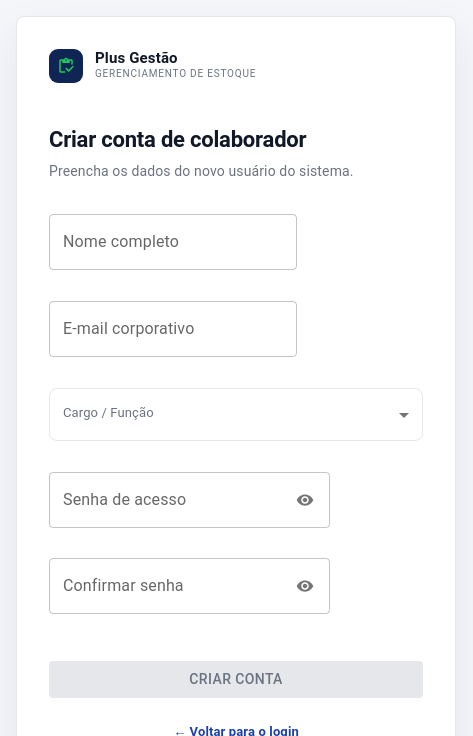
SignupPage — Criar Conta de Colaborador › exibe erro 'E-mail já cadastrado' quando API retorna 409
The image size is (473, 736).
In the field labelled "Nome completo": coordinates (173, 242) [49,214,297,270], type "Ana Gestora"
In the field labelled "E-mail corporativo": coordinates (173, 329) [49,301,297,357], type "duplicate@plus.com"
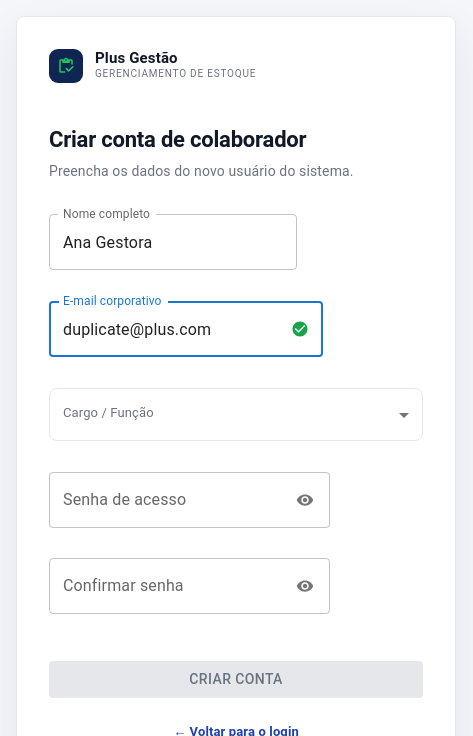
Click the dropdown: coordinates (236, 415) [49,388,423,441]
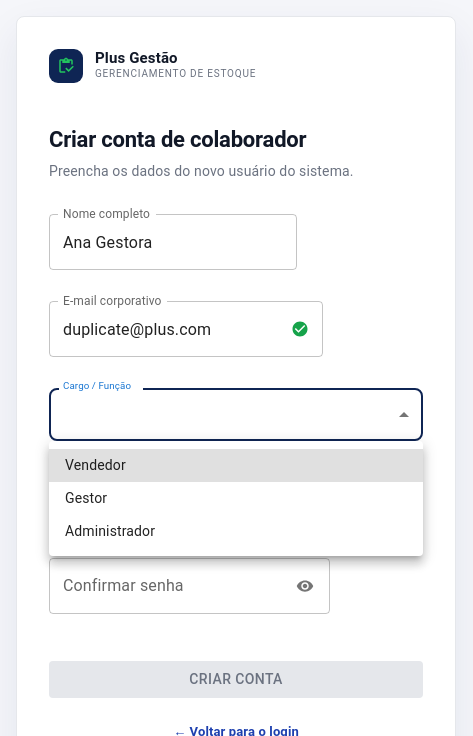
Click the option "Gestor": coordinates (86, 498) [65,490,107,506]
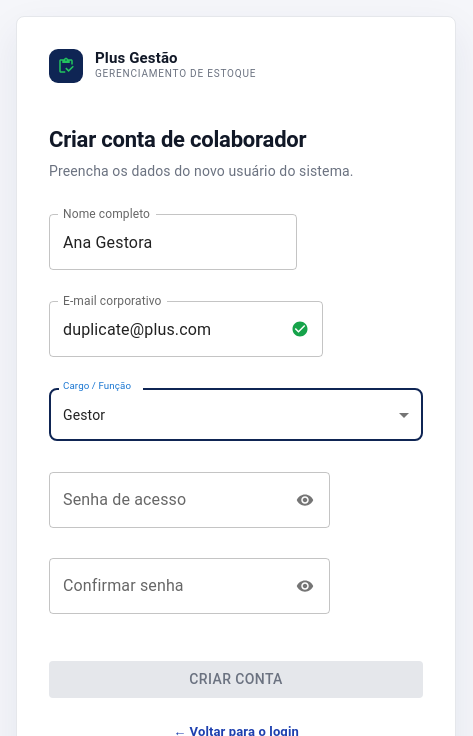
In the password field labelled "Senha de acesso": coordinates (166, 500) [49,472,283,528], type "Senh@Forte1"
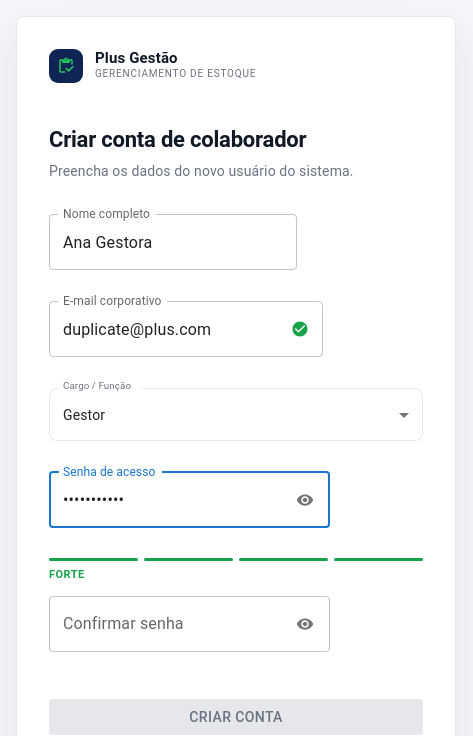
In the password field labelled "Confirmar senha": coordinates (166, 624) [49,596,283,652], type "Senh@Forte1"
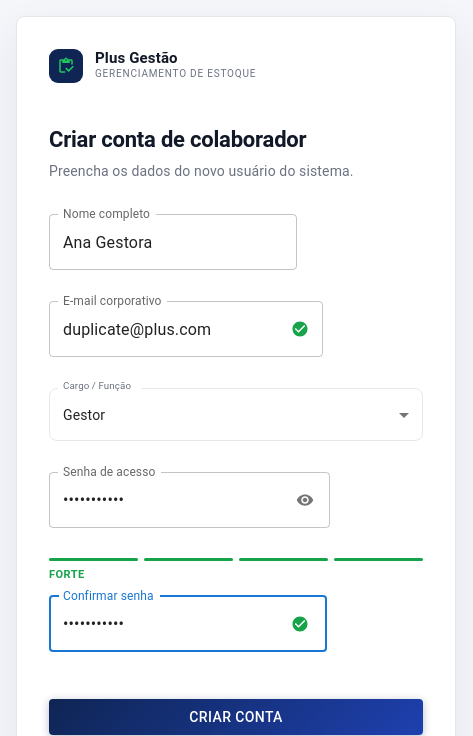
Result: the button "Criar conta" is enabled
Click the button "Criar conta": coordinates (236, 717) [49,699,423,735]
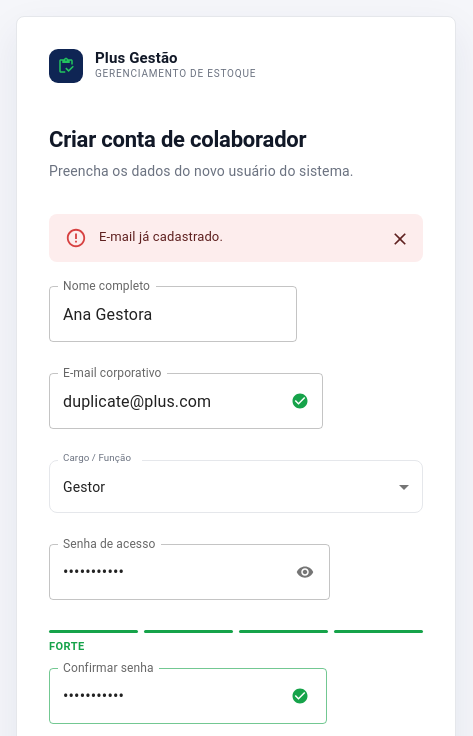
Result: the message shows "E-mail já cadastrado" at [99,229,223,244]
